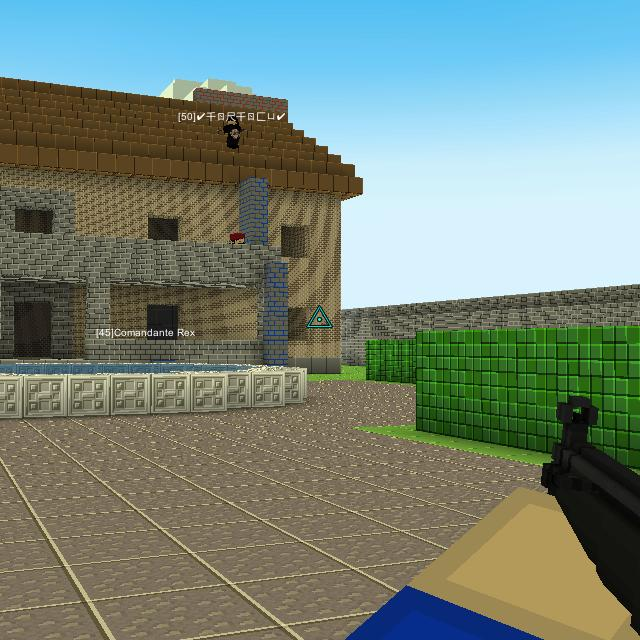enemy: (229, 229, 244, 244)
